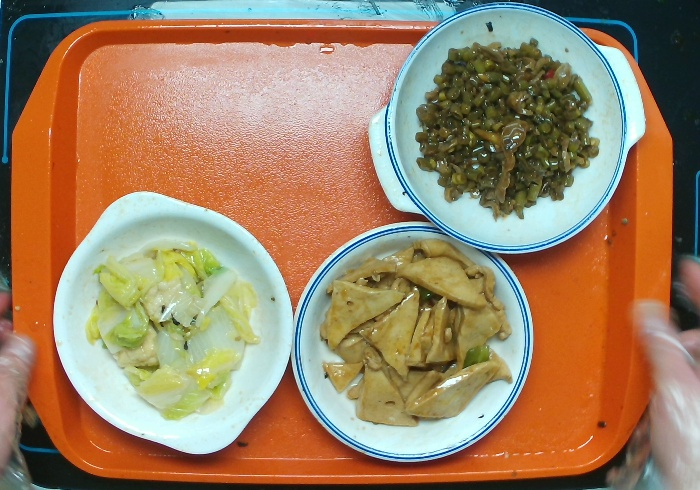HZYJPL-Dai_Er_Bai_Yuan_Wan: (51, 190, 293, 457)
HZYJPL-Lan_Bian_Dai_Er_Wan: (369, 1, 649, 254)
HZYJPL-Lan_Bian_Yuan_Die: (291, 220, 532, 461)
